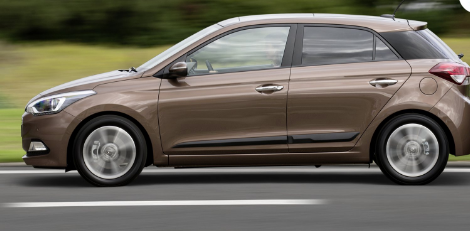car: (17, 15, 470, 189)
